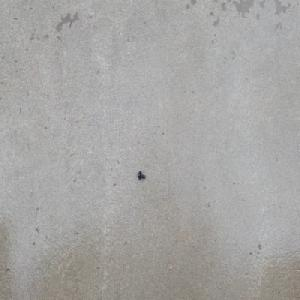BoltWasher: (137, 170, 145, 181)
